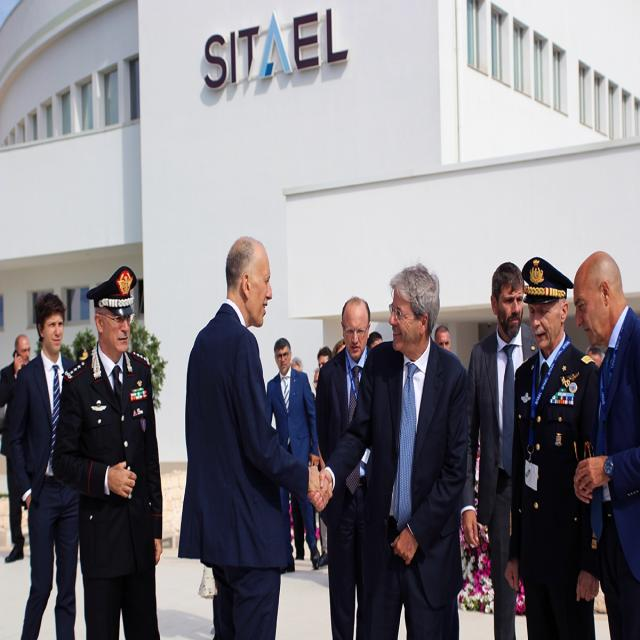body: (174, 229, 336, 639), (308, 260, 470, 640), (53, 259, 167, 639), (506, 244, 607, 639), (458, 259, 542, 640), (285, 323, 394, 594), (571, 250, 640, 640), (5, 289, 81, 640), (314, 295, 372, 640), (265, 336, 321, 569), (0, 333, 31, 565), (152, 590, 222, 639), (434, 323, 452, 353), (73, 344, 94, 367)
